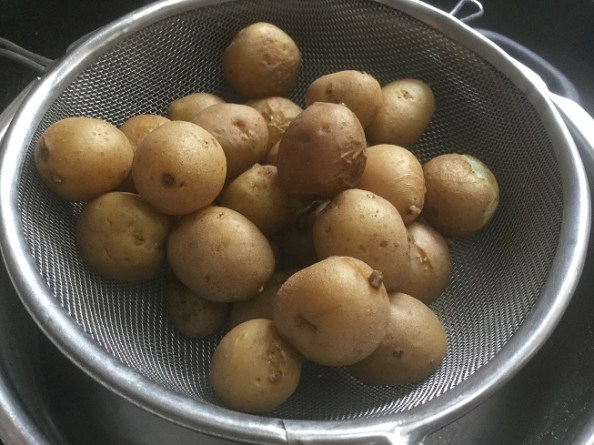boiled potatoes: (275, 263, 383, 367), (360, 301, 450, 389), (174, 209, 267, 294), (210, 320, 297, 408), (82, 191, 166, 282), (137, 120, 223, 208), (275, 104, 361, 188), (34, 114, 123, 193), (318, 194, 400, 273), (428, 154, 497, 236), (184, 99, 267, 166), (229, 25, 295, 99), (363, 142, 427, 217), (367, 81, 431, 142), (306, 75, 379, 127)
